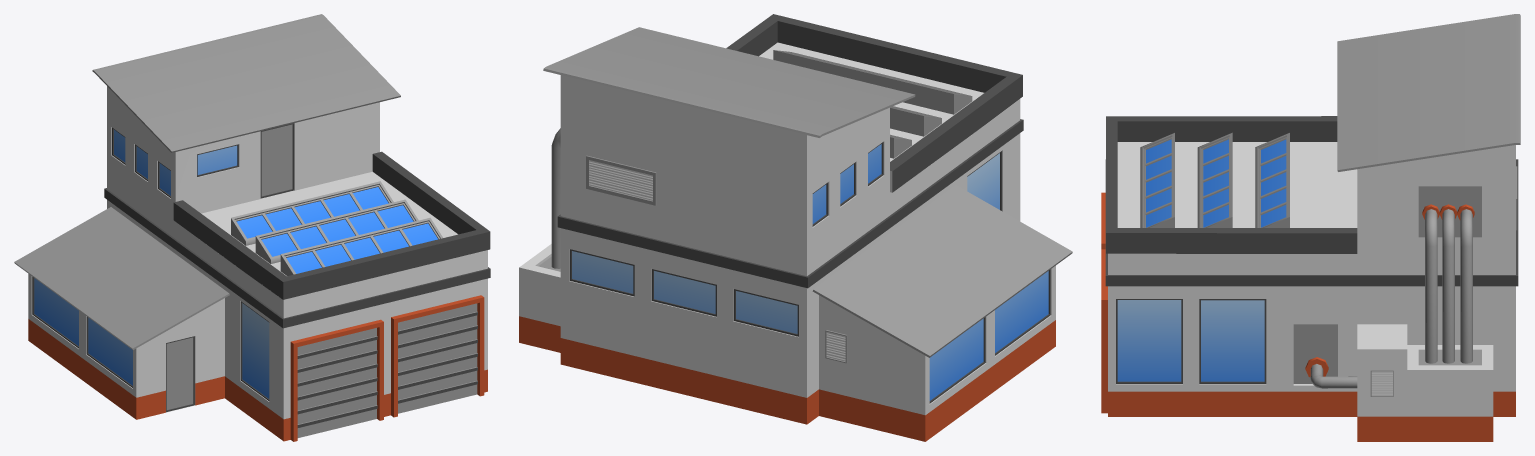
File: Factory_2.fbx
The picture shows the model from 3 angles, left to right: view 1: azimuth 30°, elevation 25°; view 2: azimuth 150°, elevation 25°; view 3: azimuth 270°, elevation 25°; orthographic projection. The views are drawn at different scales.
Visible parts, largest first — view 1: Factory_2; view 2: Factory_2; view 3: Factory_2.
Boxes of the visible parts, x1,y1,x2,y2 form: Factory_2: (14,14,490,441); Factory_2: (519,14,1072,441); Factory_2: (1101,14,1520,441).
Bounding box in the file's own units: 1019 × 684 × 926.
